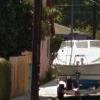Boat: (51, 33, 97, 98)
